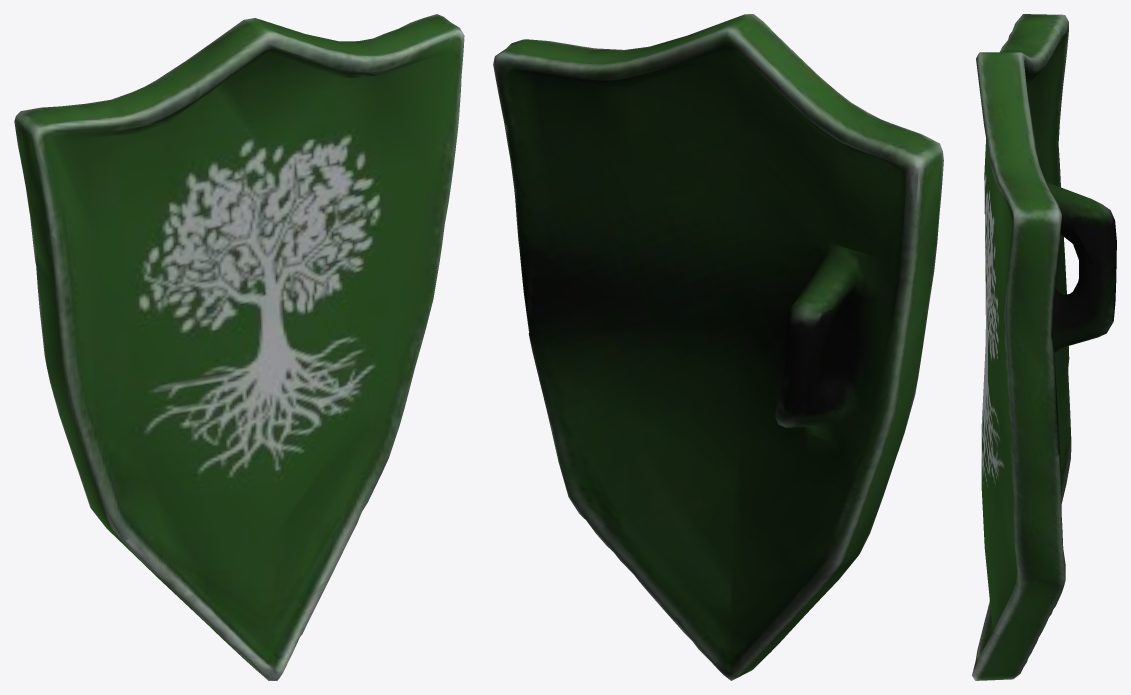
File: Shield_Metal_Tree.glb
3 views of the same model, side by side, from view 1: azimuth 30°, elevation 25°; view 2: azimuth 150°, elevation 25°; view 3: azimuth 270°, elevation 25° (orthographic). The views are drawn at different scales.
Visible parts, largest first — view 1: shield_low.001; view 2: shield_low.001; view 3: shield_low.001.
Part boxes in pixels (box(x1,y1,x2,y2)): shield_low.001: box(14, 14, 464, 680); shield_low.001: box(493, 14, 943, 680); shield_low.001: box(972, 14, 1116, 680).
Bounding box in the file's own units: 0.5272 × 0.7629 × 0.1603.
Materials: 1 (1 with a texture image).
